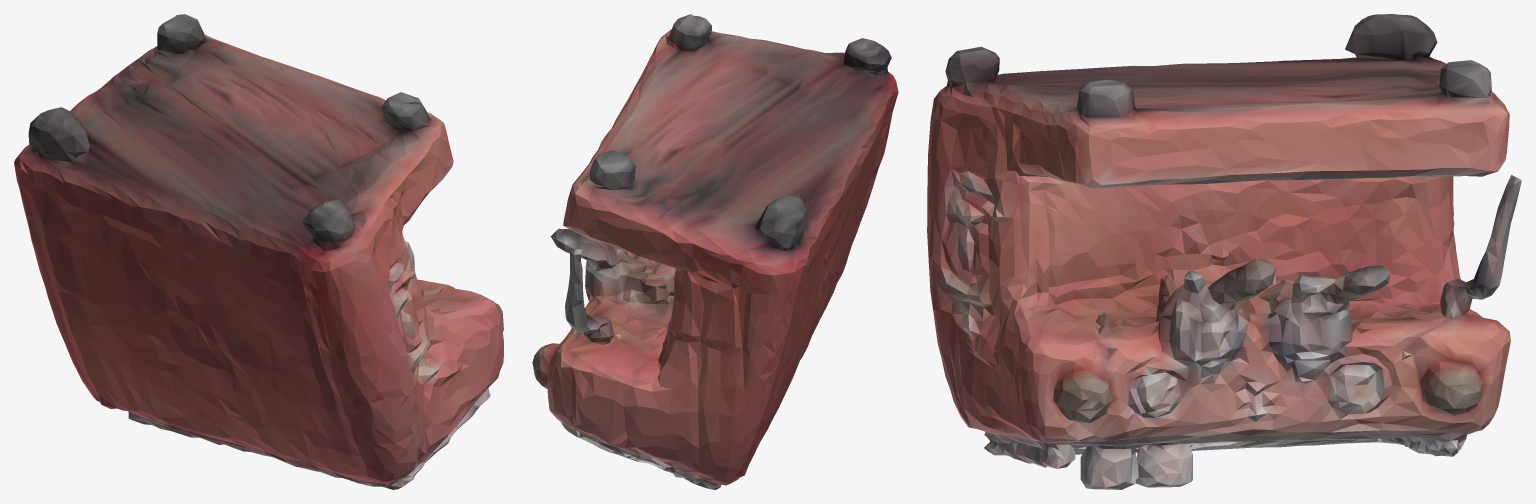
The model's file is coffee-machine.glb.
3 renders of one model, left to right at view 1: azimuth 30°, elevation 25°; view 2: azimuth 150°, elevation 25°; view 3: azimuth 270°, elevation 25°, orthographic. The views are drawn at different scales.
Parts seen in each view (by area): view 1: geometry_0; view 2: geometry_0; view 3: geometry_0.
Part boxes in pixels (bbox=[...]): geometry_0: bbox=[14, 14, 503, 489]; geometry_0: bbox=[532, 14, 898, 489]; geometry_0: bbox=[927, 14, 1521, 489].
Bounding box in the file's own units: 0.8235 × 0.8733 × 1.07.
